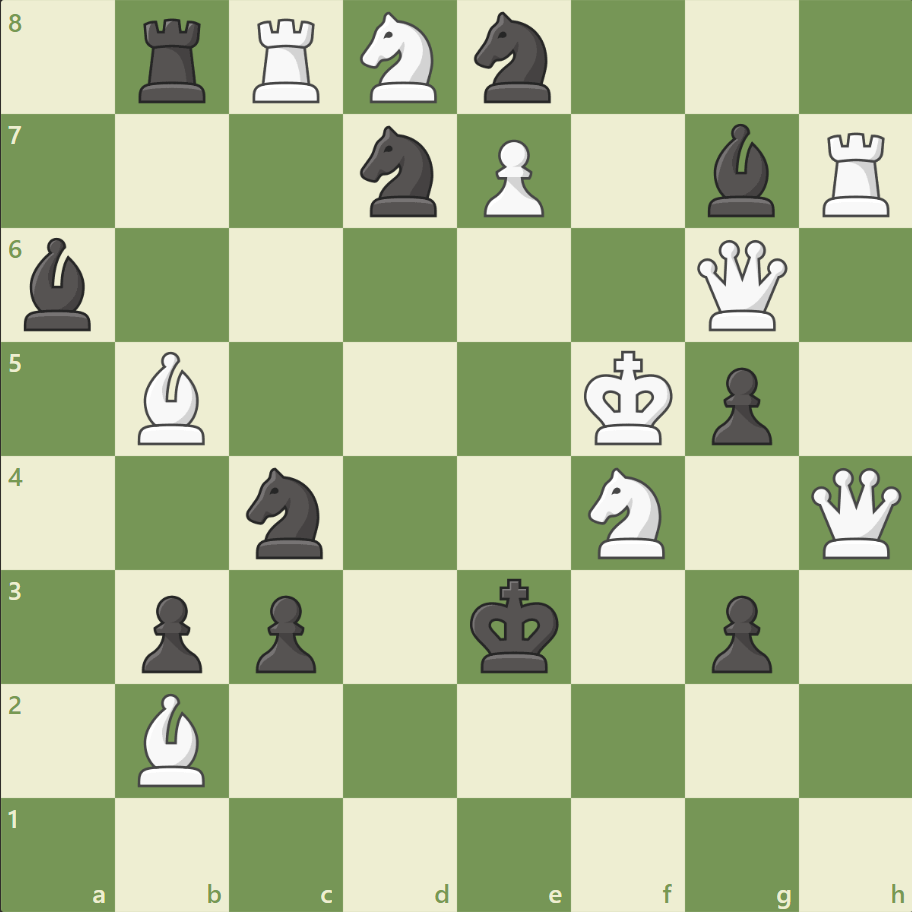B: (131, 687, 215, 790), (131, 347, 215, 449)
K: (579, 344, 679, 452)
N: (351, 7, 449, 110), (579, 461, 676, 564)
P: (474, 132, 549, 223)
Q: (691, 236, 790, 335), (805, 463, 904, 562)
R: (246, 12, 329, 109), (814, 125, 897, 222)
b: (17, 233, 101, 336), (698, 120, 782, 222)
k: (465, 571, 565, 679)
n: (351, 121, 449, 223), (465, 7, 562, 110), (238, 461, 335, 564)
p: (701, 359, 776, 450), (133, 586, 208, 677), (247, 586, 322, 677), (701, 586, 776, 677)
r: (133, 12, 215, 109)
